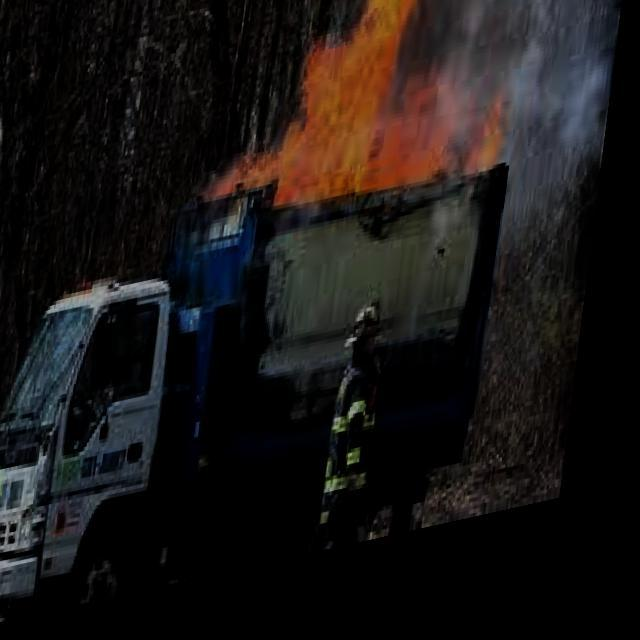Fire: (211, 0, 544, 244)
